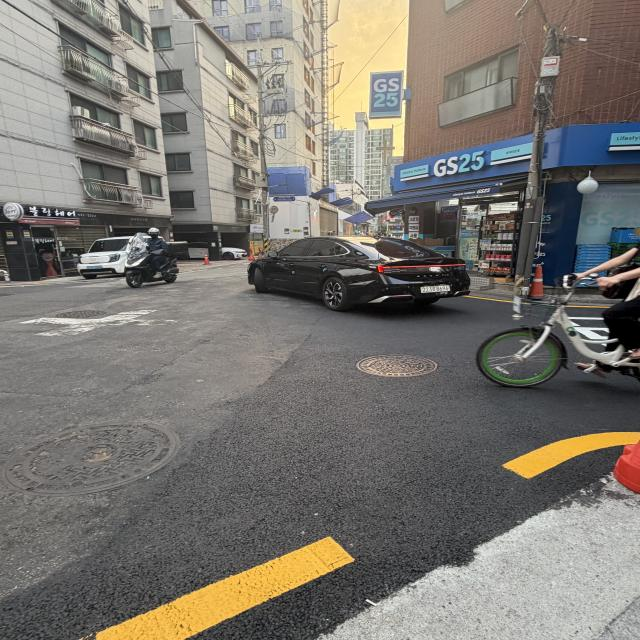bicycle: (467, 223, 640, 420)
car: (230, 212, 493, 326), (66, 225, 181, 282)
motorcycle: (115, 226, 190, 297)
